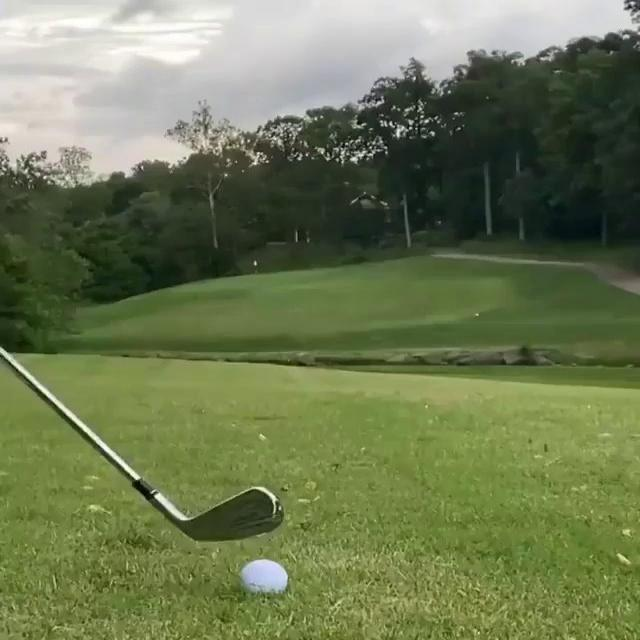golf ball: (241, 559, 288, 596)
golf club-handle: (0, 345, 285, 543)
golf club-head: (187, 488, 286, 544)
